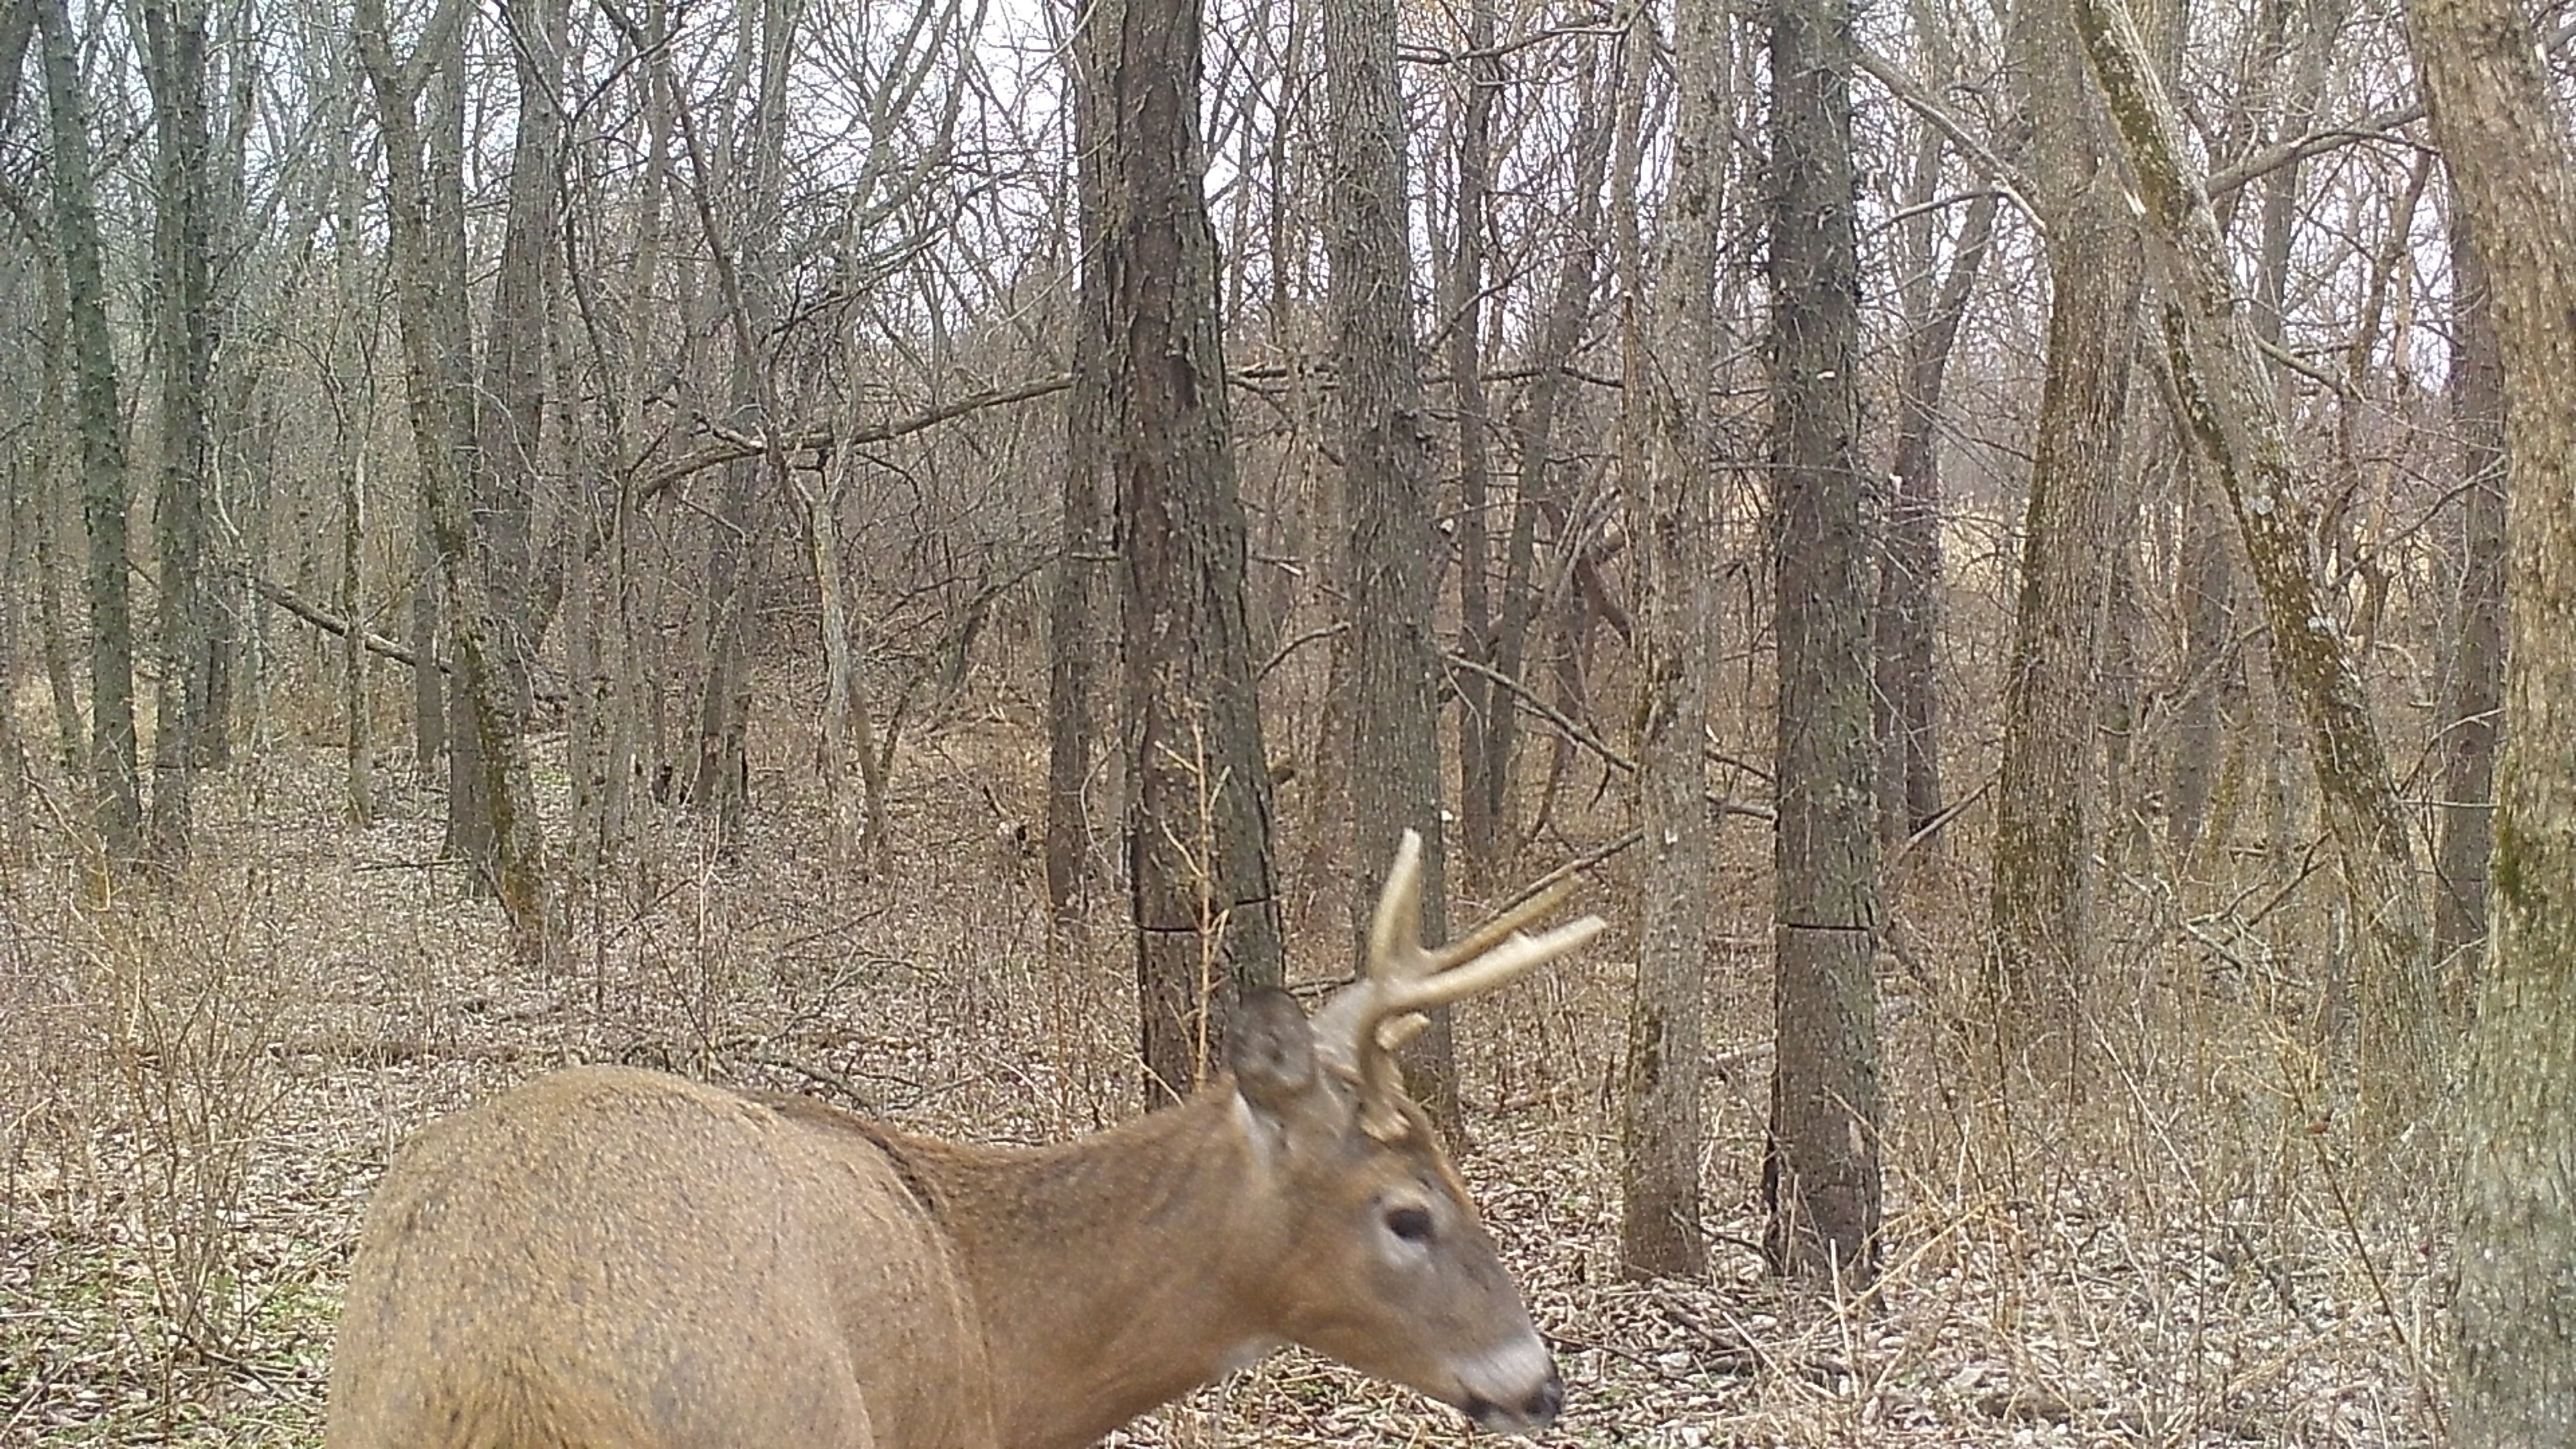DeerBuck: (319, 816, 1615, 1449)
DeerBuckHead: (1217, 819, 1612, 1439)
